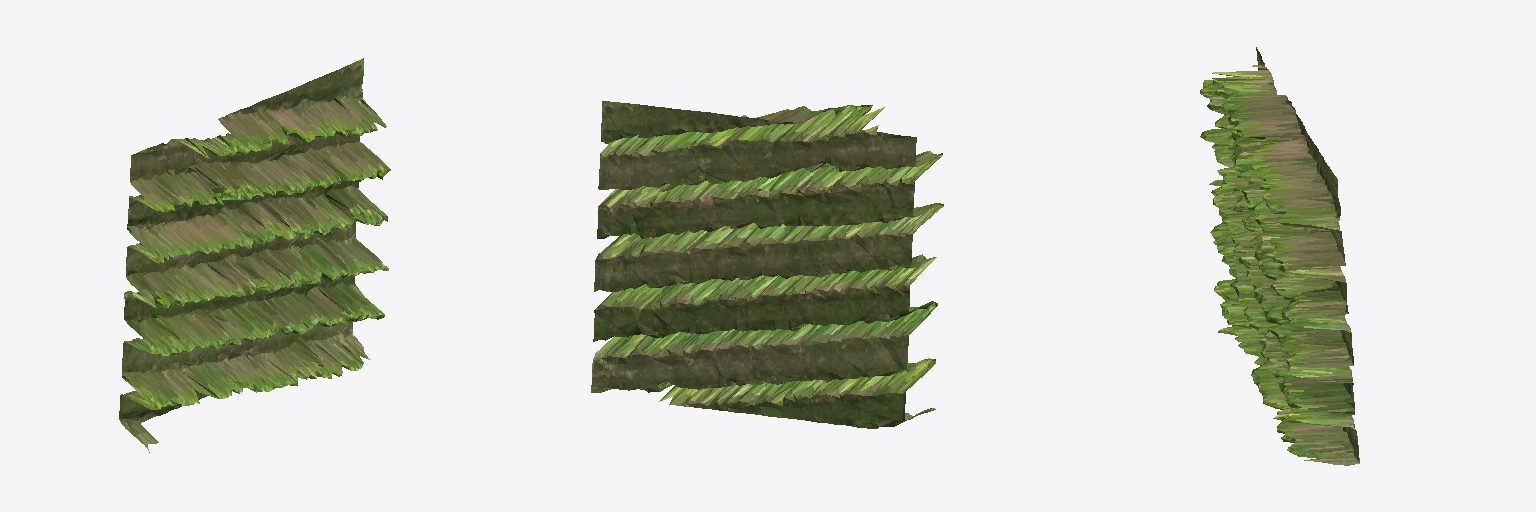
3 renders of one model, left to right at view 1: azimuth 30°, elevation 25°; view 2: azimuth 150°, elevation 25°; view 3: azimuth 270°, elevation 25°, orthographic.
Visible parts, largest first — view 1: grp1; view 2: grp1; view 3: grp1.
Boxes of the visible parts, box(x1,y1,x2,y2) form: grp1: box(119, 58, 390, 452); grp1: box(591, 101, 943, 428); grp1: box(1200, 47, 1359, 465).
Size of the model in its own units: 10 by 10 by 5.05.
Materials: 1 (1 with a texture image).